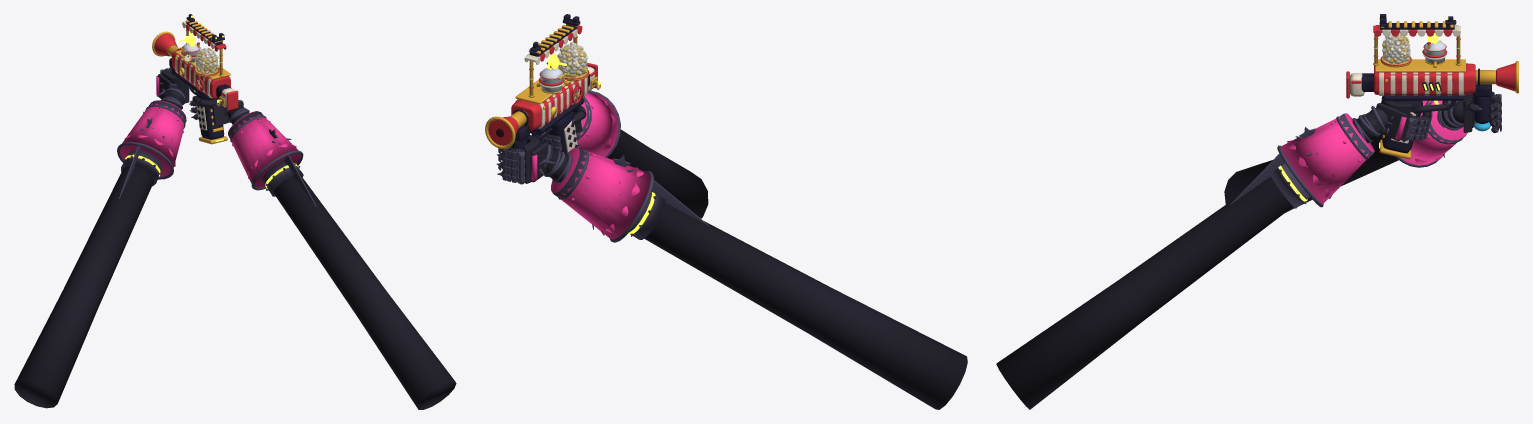
Rendered from popcorn_popper.glb.
3 renders of one model, left to right at view 1: azimuth 30°, elevation 25°; view 2: azimuth 150°, elevation 25°; view 3: azimuth 270°, elevation 25°, orthographic. The views are drawn at different scales.
Parts seen in each view (by area): view 1: ArmR, ArmL, Shell, ArmRKitBell, ArmLKitBell, Dome; view 2: ArmL, Shell, ArmLKitBell, ArmR, ArmRKitBell, ArmLKitGauntlet, Dome, ArmLKitFins, ArmLKitMitten, ArmLKitWraps; view 3: ArmR, Shell, ArmRKitBell, ArmL, ArmLKitBell, ArmRKitGauntlet, Dome, ArmRKitMitten, ArmRKitFins.
Part boxes in pixels (x1,y1,x2,y2): ArmR: (191, 88, 456, 409); ArmL: (14, 68, 189, 408); Shell: (152, 20, 238, 144); ArmRKitBell: (228, 111, 303, 190); ArmLKitBell: (117, 100, 185, 179); Dome: (195, 47, 217, 73); ArmL: (500, 135, 967, 409); Shell: (485, 24, 600, 154); ArmLKitBell: (551, 147, 653, 242); ArmR: (530, 105, 708, 218); ArmRKitBell: (577, 90, 620, 157); ArmLKitGauntlet: (498, 147, 595, 200); Dome: (558, 43, 587, 77); ArmLKitFins: (539, 157, 708, 225); ArmLKitMitten: (531, 142, 547, 182); ArmLKitWraps: (519, 144, 571, 184); ArmR: (996, 96, 1448, 409); Shell: (1346, 21, 1518, 159); ArmRKitBell: (1277, 113, 1374, 207); ArmL: (1224, 91, 1500, 212); ArmLKitBell: (1395, 100, 1467, 167); ArmRKitGauntlet: (1331, 103, 1432, 162); Dome: (1382, 33, 1409, 64); ArmRKitMitten: (1377, 103, 1406, 140); ArmRKitFins: (1230, 122, 1392, 204).
Bounding box in the file's own units: 1.48 × 1.19 × 1.61.
